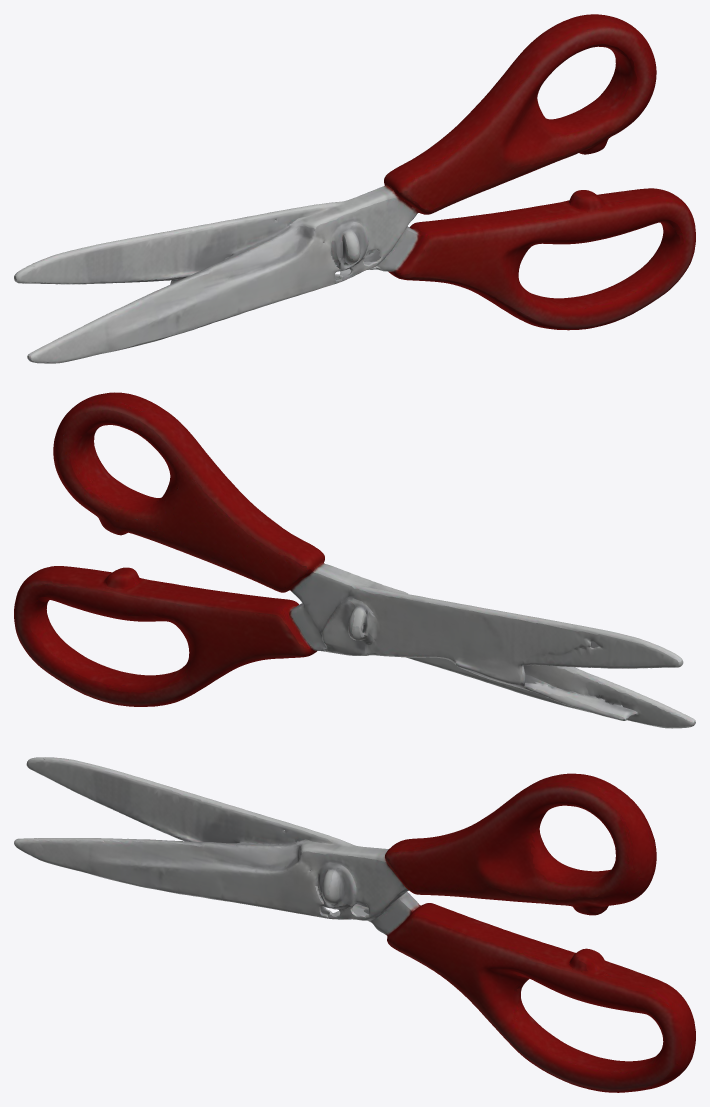
Rendered from parts.glb.
The picture shows the model from 3 angles, top to bottom: view 1: azimuth 30°, elevation 25°; view 2: azimuth 150°, elevation 25°; view 3: azimuth 330°, elevation 25°; orthographic projection.
Bounding box in the file's own units: 0.21 × 0.0917 × 0.0173.
Materials: 3 (3 with a texture image).
